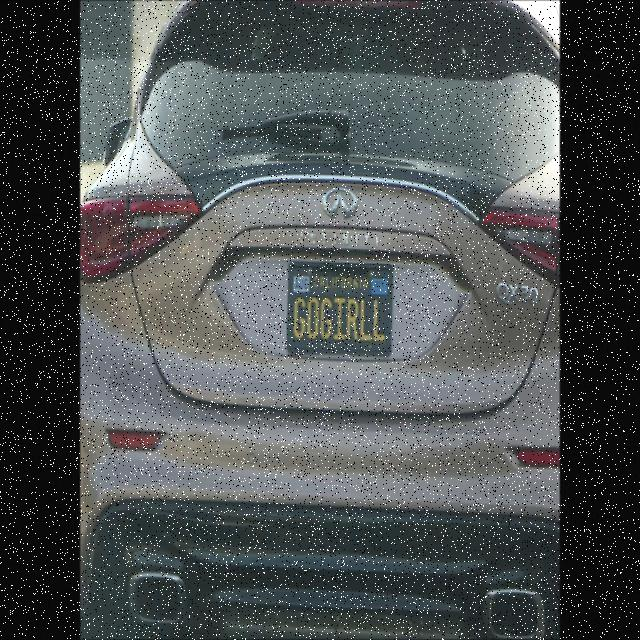licenseplate: (290, 252, 394, 354)
